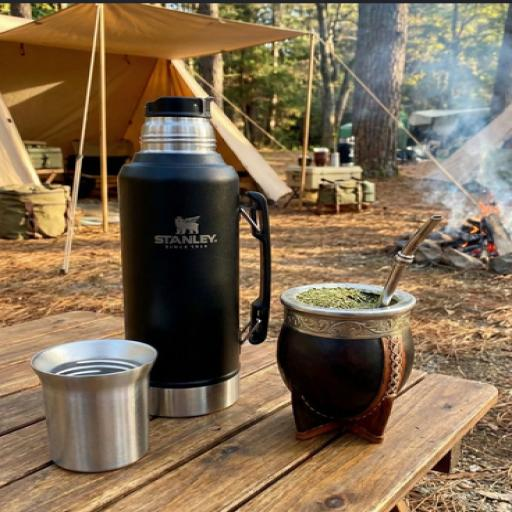mate: (277, 217, 441, 442)
termo: (119, 98, 271, 417)
